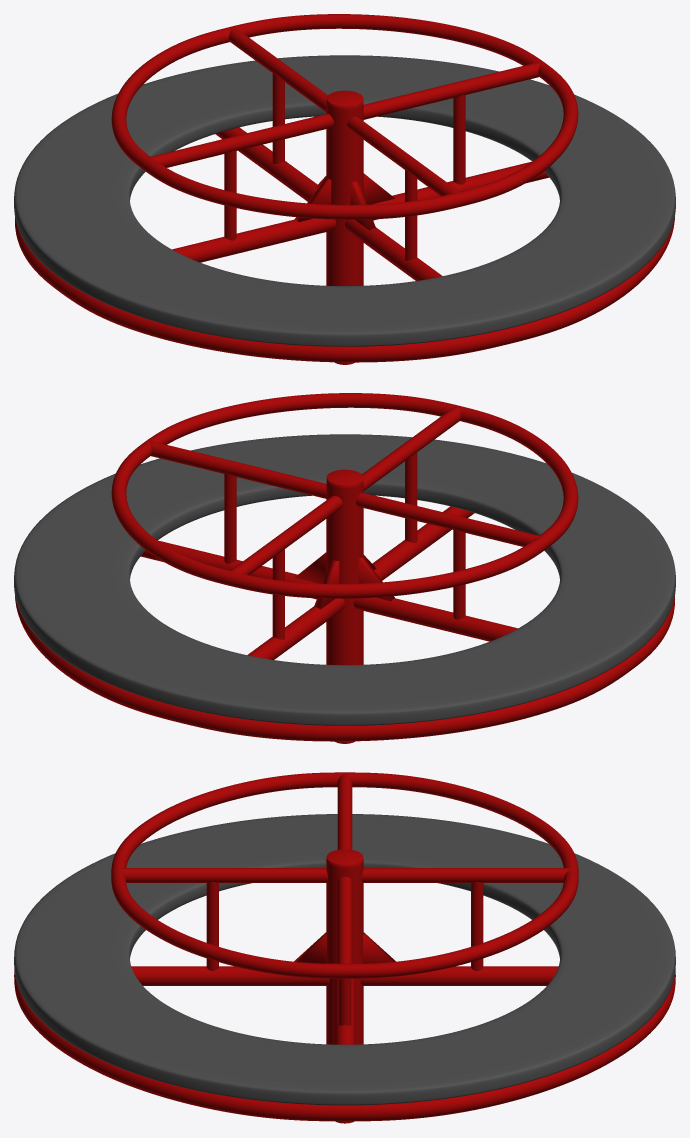
The model's file is carousel.fbx.
3 views of the same model, one above another, from view 1: azimuth 30°, elevation 25°; view 2: azimuth 150°, elevation 25°; view 3: azimuth 270°, elevation 25° (orthographic).
Parts seen in each view (by area): view 1: Circle_002, NurbsCircle, CurveCircle_000; view 2: Circle_002, NurbsCircle, CurveCircle_000; view 3: Circle_002, NurbsCircle, CurveCircle_000.
Part boxes in pixels (x1,y1,x2,y2): Circle_002: (14,55,675,346); NurbsCircle: (15,14,674,364); CurveCircle_000: (294,173,394,230); Circle_002: (14,434,675,725); NurbsCircle: (15,393,674,743); CurveCircle_000: (295,552,394,609); Circle_002: (14,814,675,1105); NurbsCircle: (14,772,675,1123); CurveCircle_000: (294,932,395,963).
Size of the model in its own units: 2 by 0.8787 by 2.
